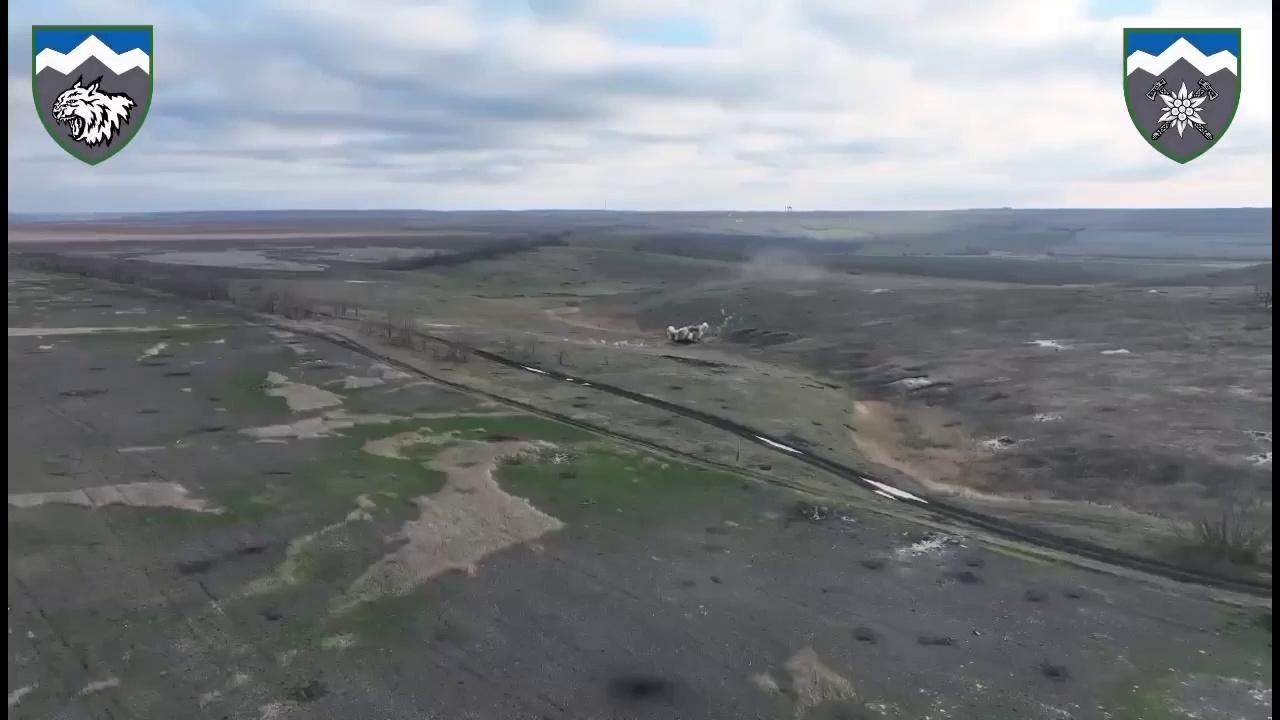person: (597, 322, 600, 328)
